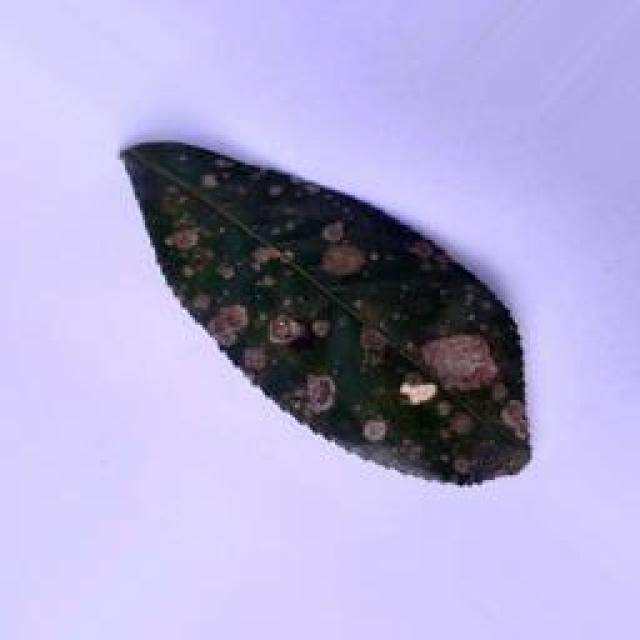Algal Leaf Spot: (113, 133, 549, 497)
